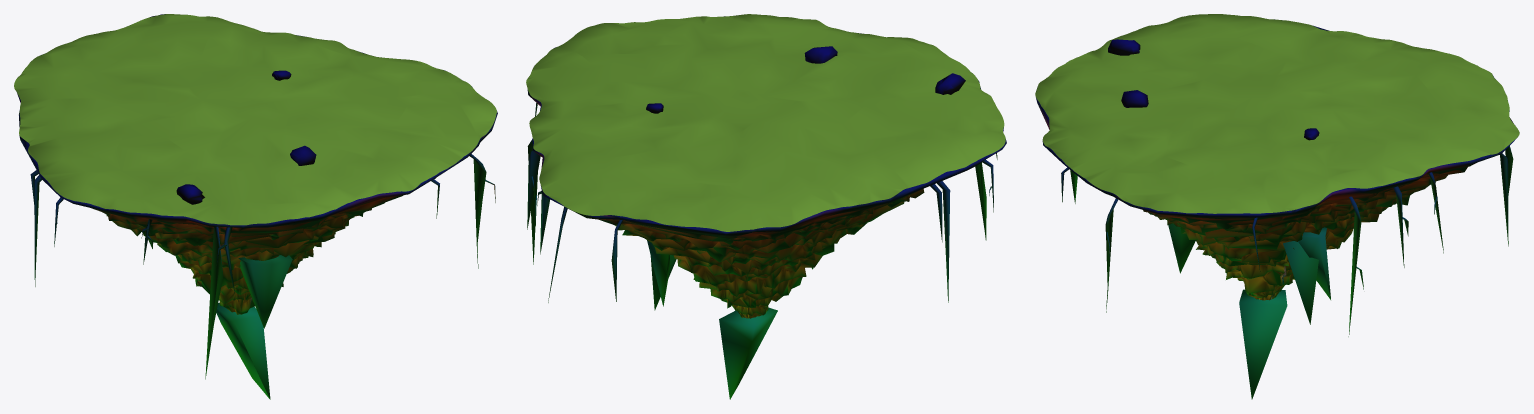
File: SM_FloatingRock_C_L2.glb
3 views of the same model, side by side, from view 1: azimuth 30°, elevation 25°; view 2: azimuth 150°, elevation 25°; view 3: azimuth 270°, elevation 25° (orthographic). The views are drawn at different scales.
Parts seen in each view (by area): view 1: SM_FloatingRock_C; view 2: SM_FloatingRock_C; view 3: SM_FloatingRock_C.
Part boxes in pixels (x1,y1,x2,y2): SM_FloatingRock_C: (14, 14, 497, 399); SM_FloatingRock_C: (526, 14, 1006, 399); SM_FloatingRock_C: (1035, 14, 1519, 399).
Size of the model in its own units: 43.44 by 29.72 by 44.34.
